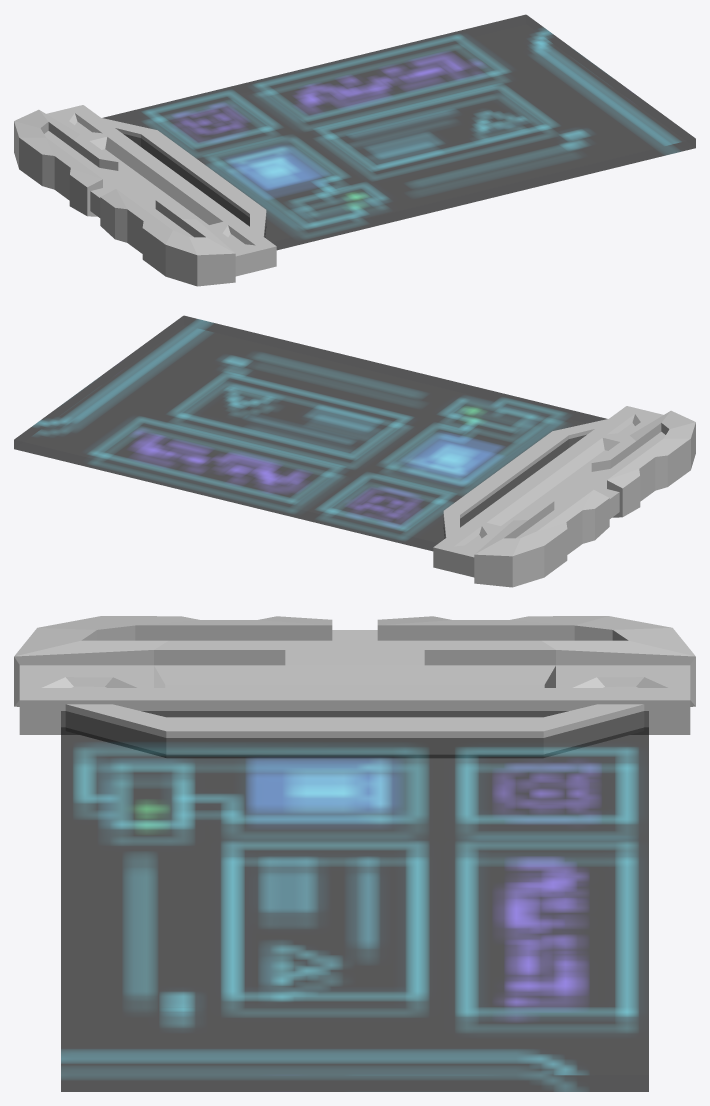
The model's file is SM_Prop_Handheld_03.fbx.
3 views of the same model, one above another, from view 1: azimuth 30°, elevation 25°; view 2: azimuth 150°, elevation 25°; view 3: azimuth 270°, elevation 25° (orthographic). The views are drawn at different scales.
Parts seen in each view (by area): view 1: SM_Prop_Handheld_03; view 2: SM_Prop_Handheld_03; view 3: SM_Prop_Handheld_03.
Boxes of the visible parts, box(x1,y1,x2,y2) form: SM_Prop_Handheld_03: box(14, 14, 695, 286); SM_Prop_Handheld_03: box(14, 315, 695, 587); SM_Prop_Handheld_03: box(14, 616, 695, 1091).
Bounding box in the file's own units: 57.07 × 3.97 × 37.5.
